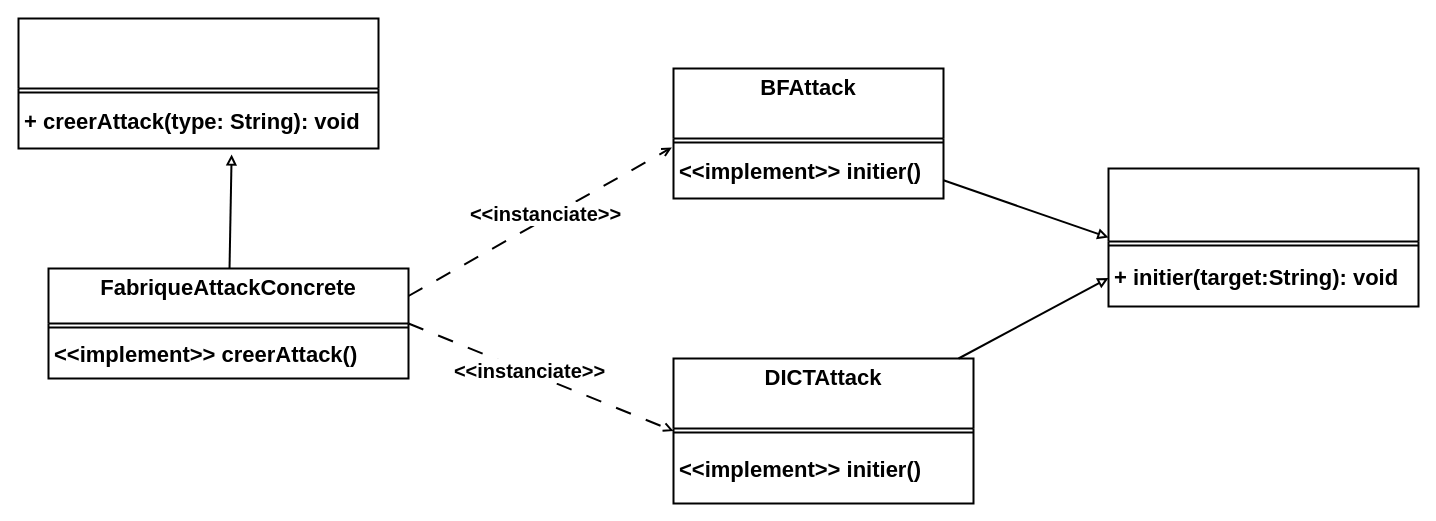
Some shapes in this 1436 by 521 pixel diagram are drawn without their labels. Each missing label, with the box of its shape:
Attack {abstract}: (1107, 167, 1419, 307)
FabriqueAttack {abstract}: (17, 17, 379, 149)
